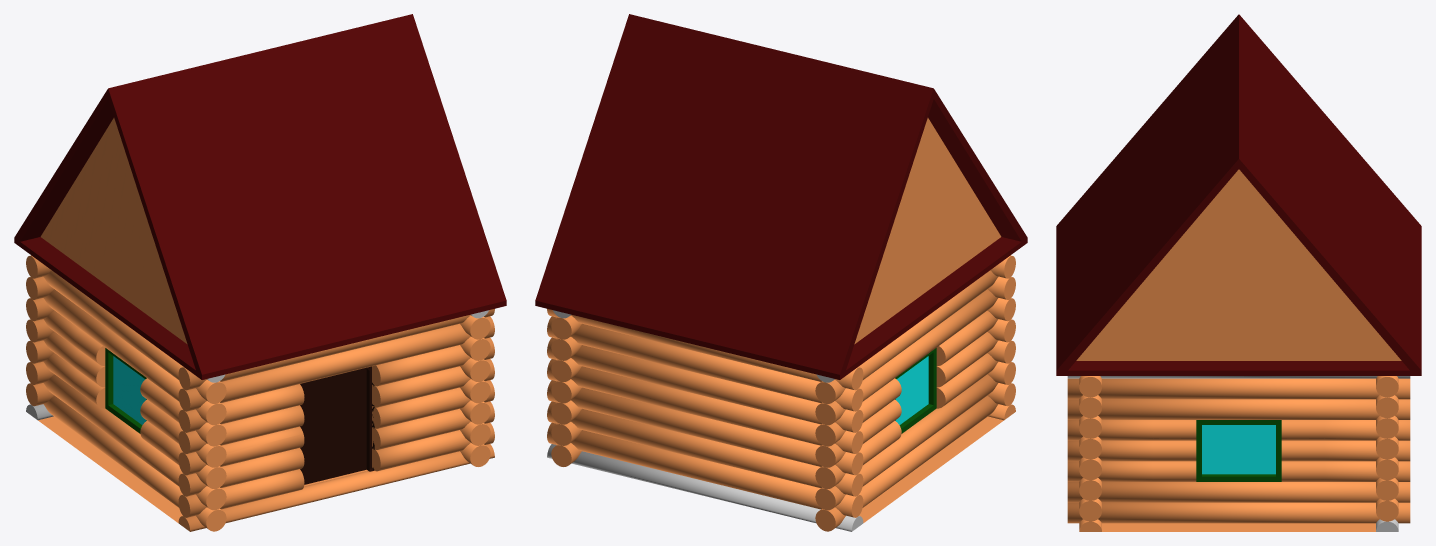
The picture shows the model from 3 angles, left to right: view 1: azimuth 30°, elevation 25°; view 2: azimuth 150°, elevation 25°; view 3: azimuth 270°, elevation 25°; orthographic projection. The views are drawn at different scales.
Parts seen in each view (by area): view 1: Куб.007_Куб.000, Куб.000_Куб.007_Куб.002, Куб.007_Куб.001_Куб.007_Куб.105, Цилиндр, Куб.007_Куб.011_Куб.007_Куб.010, Куб.007_Куб.017_Куб.007_Куб.016, Куб.007_Куб.010_Куб.007_Куб.009, Куб.007_Куб.018_Куб.007_Куб.017, Куб.007_Куб.050, Куб.001_Куб.007_Куб.007, Куб.007_Куб.025_Куб.007_Куб.024, Куб.007_Куб.019_Куб.007_Куб.018 (+15 smaller); view 2: Куб.007_Куб.000, Куб.007_Куб.034_Куб.007_Куб.033, Куб.007_Куб.036_Куб.007_Куб.035, Куб.007_Куб.035_Куб.007_Куб.034, Куб.007_Куб.031_Куб.007_Куб.030, Куб.007_Куб.032_Куб.007_Куб.031, Куб.007_Куб.033_Куб.007_Куб.032, Цилиндр.001, Куб.007_Куб.011_Куб.007_Куб.010, Куб.007_Куб.017_Куб.007_Куб.016, Куб.007_Куб.010_Куб.007_Куб.009, Куб.007_Куб.018_Куб.007_Куб.017 (+9 smaller); view 3: Куб.007_Куб.000, Куб.007_Куб.037_Куб.007_Куб.036, Куб.007_Куб.046_Куб.007_Куб.045, Куб.007_Куб.045_Куб.007_Куб.044, Куб.007_Куб.038_Куб.007_Куб.037, Куб.007_Куб.007_Куб.052, Куб.007_Куб.050, Куб.007_Куб.005_Куб.007_Куб.004, Куб.007_Куб.042_Куб.007_Куб.041, Куб.007_Куб.039_Куб.007_Куб.038, Куб.007_Куб.040_Куб.007_Куб.039, Куб.007_Куб.043_Куб.007_Куб.042 (+16 smaller).
Boxes of the visible parts, <box> form: Куб.007_Куб.000: <box>14,14,506,379</box>; Куб.000_Куб.007_Куб.002: <box>300,366,374,484</box>; Куб.007_Куб.001_Куб.007_Куб.105: <box>178,316,494,411</box>; Цилиндр: <box>178,444,494,531</box>; Куб.007_Куб.011_Куб.007_Куб.010: <box>43,374,226,510</box>; Куб.007_Куб.017_Куб.007_Куб.016: <box>43,289,226,425</box>; Куб.007_Куб.010_Куб.007_Куб.009: <box>43,395,226,531</box>; Куб.007_Куб.018_Куб.007_Куб.017: <box>43,270,226,403</box>; Куб.007_Куб.050: <box>38,416,367,522</box>; Куб.001_Куб.007_Куб.007: <box>105,348,146,433</box>; Куб.007_Куб.025_Куб.007_Куб.024: <box>178,405,304,453</box>; Куб.007_Куб.019_Куб.007_Куб.018: <box>178,469,304,517</box>; Куб.007_Куб.000: <box>535,14,1027,379</box>; Куб.007_Куб.034_Куб.007_Куб.033: <box>547,380,863,475</box>; Куб.007_Куб.036_Куб.007_Куб.035: <box>547,422,863,517</box>; Куб.007_Куб.035_Куб.007_Куб.034: <box>547,401,863,496</box>; Куб.007_Куб.031_Куб.007_Куб.030: <box>547,316,863,411</box>; Куб.007_Куб.032_Куб.007_Куб.031: <box>547,337,863,432</box>; Куб.007_Куб.033_Куб.007_Куб.032: <box>547,359,863,453</box>; Цилиндр.001: <box>547,444,863,531</box>; Куб.007_Куб.011_Куб.007_Куб.010: <box>815,374,998,510</box>; Куб.007_Куб.017_Куб.007_Куб.016: <box>815,289,998,425</box>; Куб.007_Куб.010_Куб.007_Куб.009: <box>815,395,998,531</box>; Куб.007_Куб.018_Куб.007_Куб.017: <box>815,270,998,403</box>; Куб.007_Куб.000: <box>1056,14,1421,375</box>; Куб.007_Куб.037_Куб.007_Куб.036: <box>1067,502,1410,523</box>; Куб.007_Куб.046_Куб.007_Куб.045: <box>1067,378,1410,399</box>; Куб.007_Куб.045_Куб.007_Куб.044: <box>1067,399,1410,419</box>; Куб.007_Куб.038_Куб.007_Куб.037: <box>1067,482,1410,502</box>; Куб.007_Куб.007_Куб.052: <box>1196,420,1281,481</box>; Куб.007_Куб.050: <box>1102,523,1375,531</box>; Куб.007_Куб.005_Куб.007_Куб.004: <box>1281,440,1410,461</box>; Куб.007_Куб.042_Куб.007_Куб.041: <box>1067,440,1196,461</box>; Куб.007_Куб.039_Куб.007_Куб.038: <box>1281,461,1410,481</box>; Куб.007_Куб.040_Куб.007_Куб.039: <box>1067,461,1196,481</box>; Куб.007_Куб.043_Куб.007_Куб.042: <box>1281,420,1410,440</box>.
Bounding box in the file's own units: 6 × 7.22 × 6.4.
